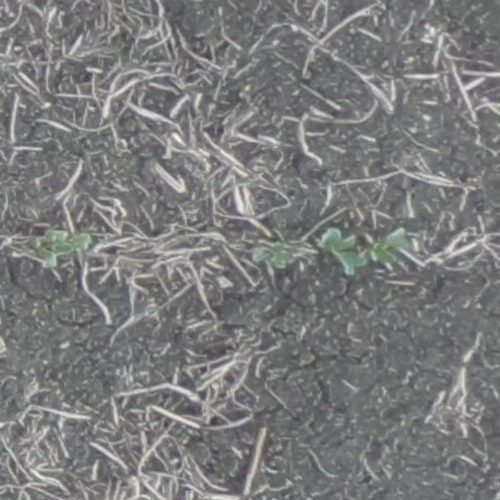plant: (319, 226, 408, 277), (26, 229, 80, 270)
